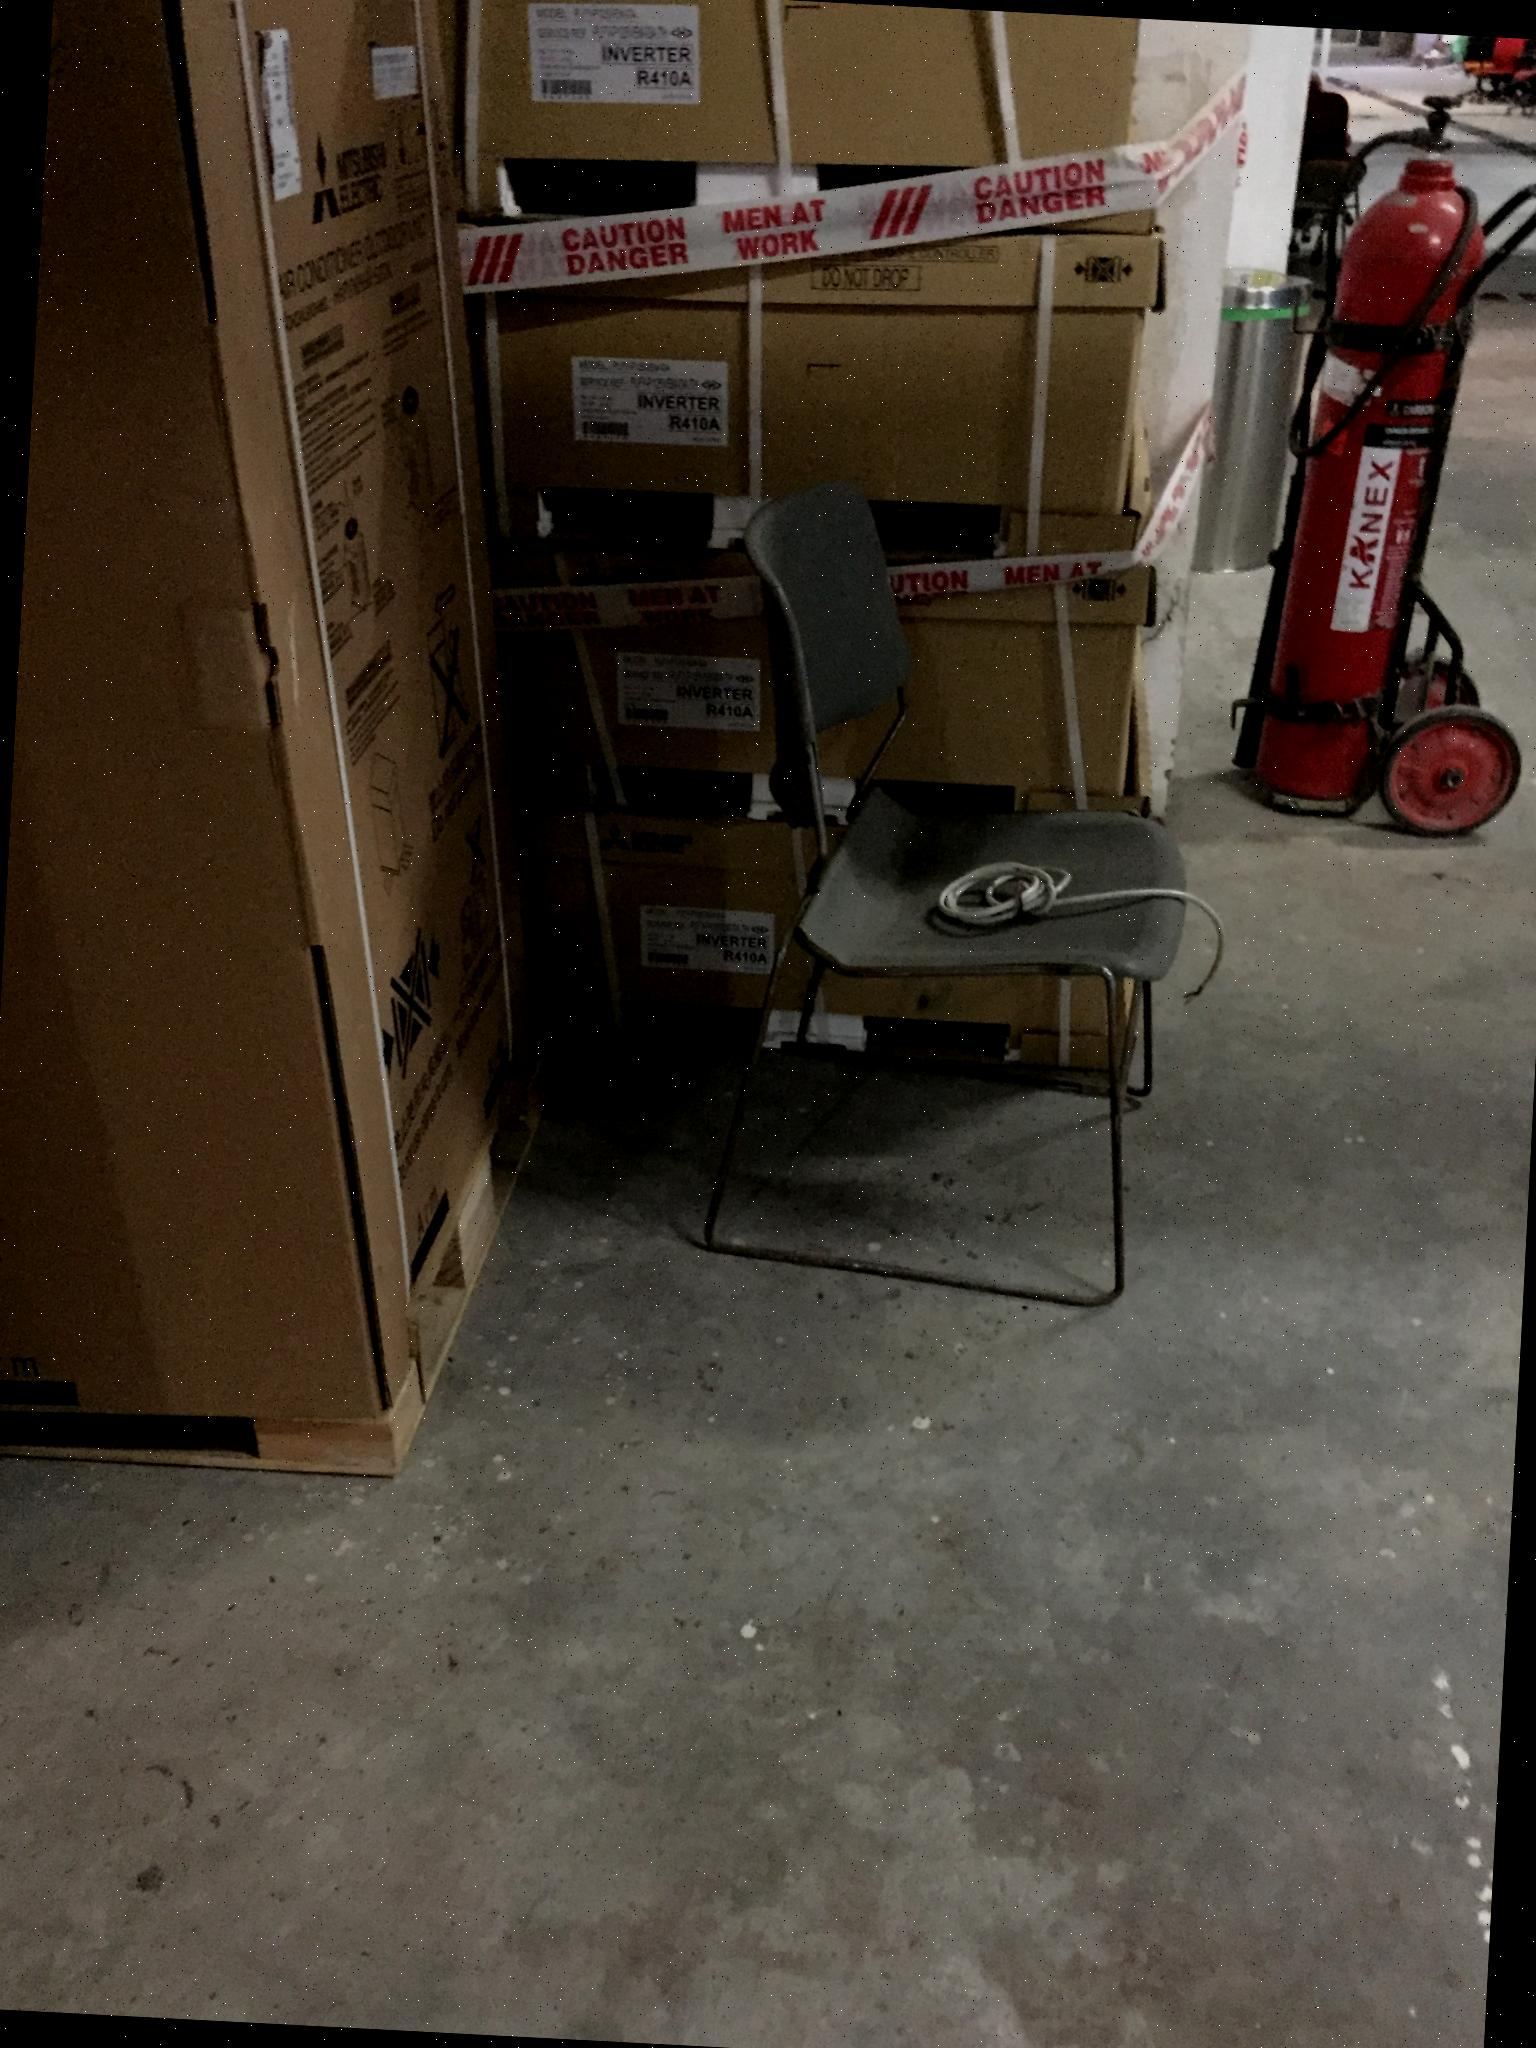chair: (687, 472, 1246, 1314)
